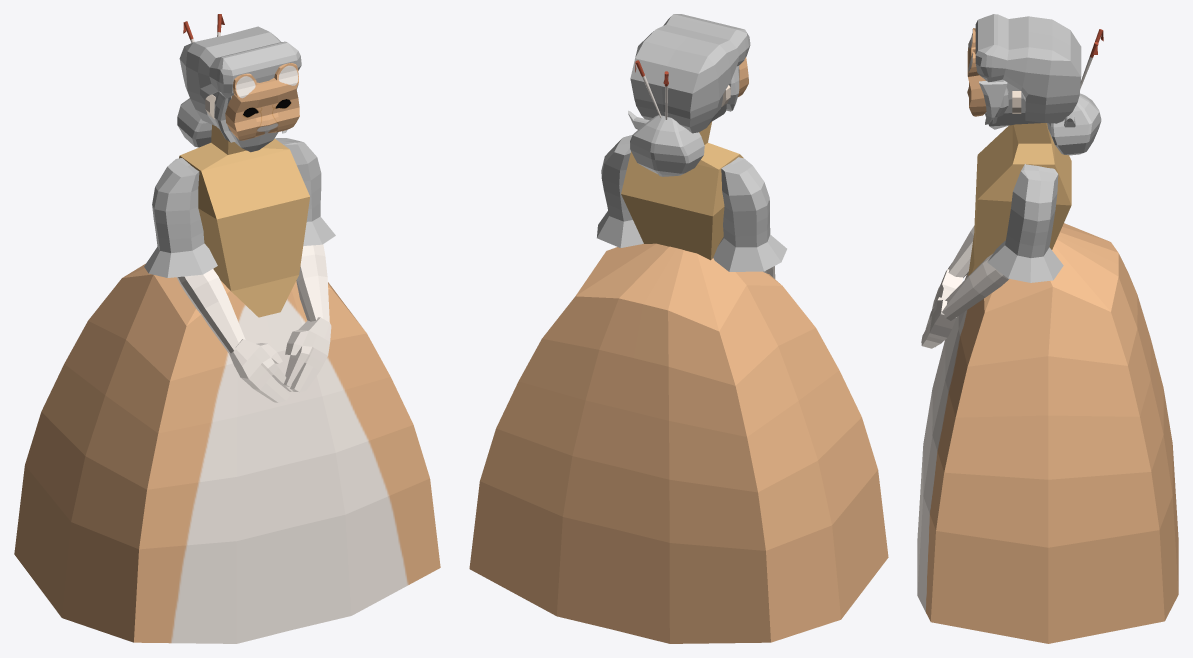
Rendered from lionessbody.fbx.
3 views of the same model, side by side, from view 1: azimuth 30°, elevation 25°; view 2: azimuth 150°, elevation 25°; view 3: azimuth 270°, elevation 25° (orthographic). The views are drawn at different scales.
Parts seen in each view (by area): view 1: Cube.002, Cube, Cube.011, Cube.009, Cube.016, Cube.012; view 2: Cube.002, Cube.016, Cube, Cube.009; view 3: Cube.002, Cube.016, Cube, Cube.009, Cube.011, Cube.012, Cube.013, Cube.003.
Part boxes in pixels (<box>): Cube.002: <box>14,263,440,643</box>; Cube: <box>179,124,309,317</box>; Cube.011: <box>177,244,331,402</box>; Cube.009: <box>144,138,335,277</box>; Cube.016: <box>177,26,301,147</box>; Cube.012: <box>225,63,299,140</box>; Cube.002: <box>469,243,888,643</box>; Cube.016: <box>628,14,750,176</box>; Cube: <box>621,121,743,260</box>; Cube.009: <box>597,135,786,271</box>; Cube.002: <box>917,223,1178,643</box>; Cube.016: <box>975,14,1101,155</box>; Cube: <box>968,123,1071,275</box>; Cube.009: <box>987,164,1063,282</box>; Cube.011: <box>921,225,1008,348</box>; Cube.012: <box>967,28,986,116</box>; Cube.013: <box>979,80,1007,124</box>; Cube.003: <box>985,80,1042,129</box>.
Bounding box in the file's own units: 155 × 247 × 109.
